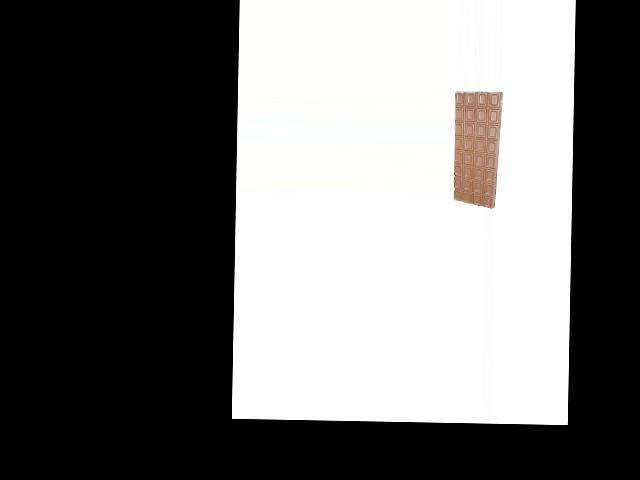chocolate: (452, 89, 501, 210)
